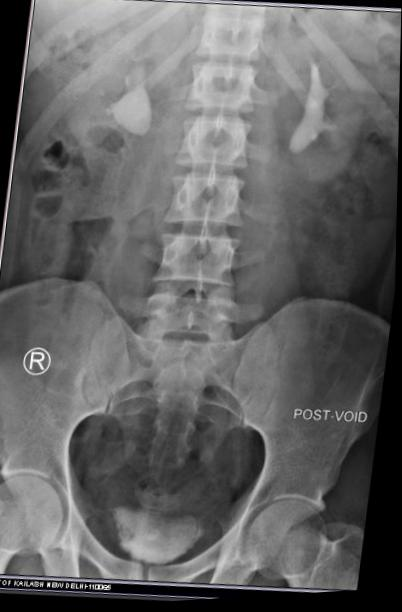bladder: (110, 508, 212, 587)
vertebrae: (186, 51, 264, 116)
